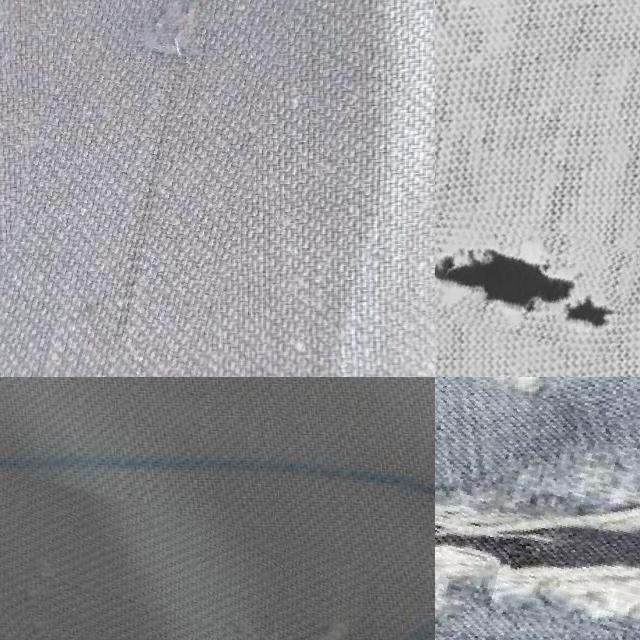other: (435, 385, 640, 640), (435, 206, 634, 346)
stains: (3, 0, 289, 377), (0, 489, 368, 640)
